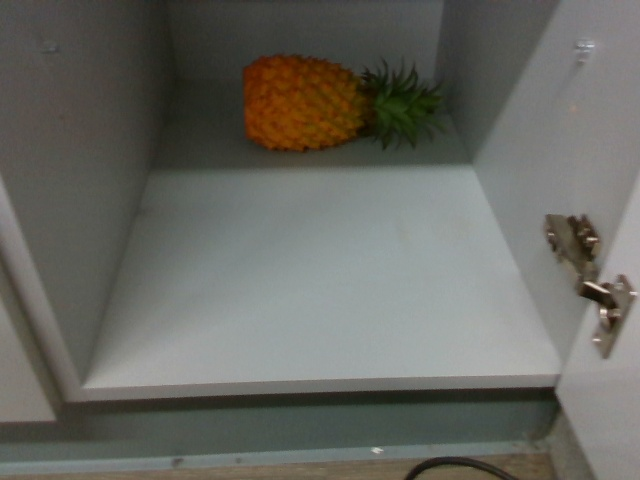pineapple: (237, 47, 448, 153)
